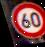Speed Limit -60-: (4, 0, 45, 41)
